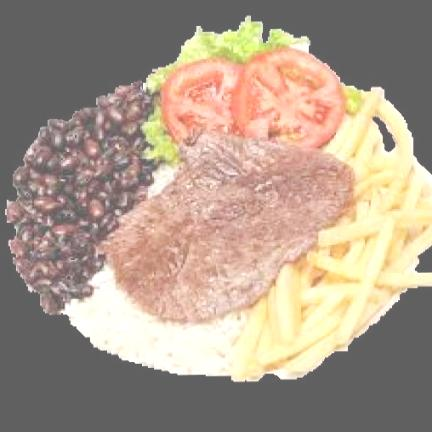beans: (7, 81, 158, 312)
meat: (105, 132, 352, 321)
potato: (174, 91, 432, 380), (71, 271, 169, 353)
rice: (65, 265, 246, 375)
salad: (141, 18, 309, 164)
tomato: (162, 48, 345, 148)
